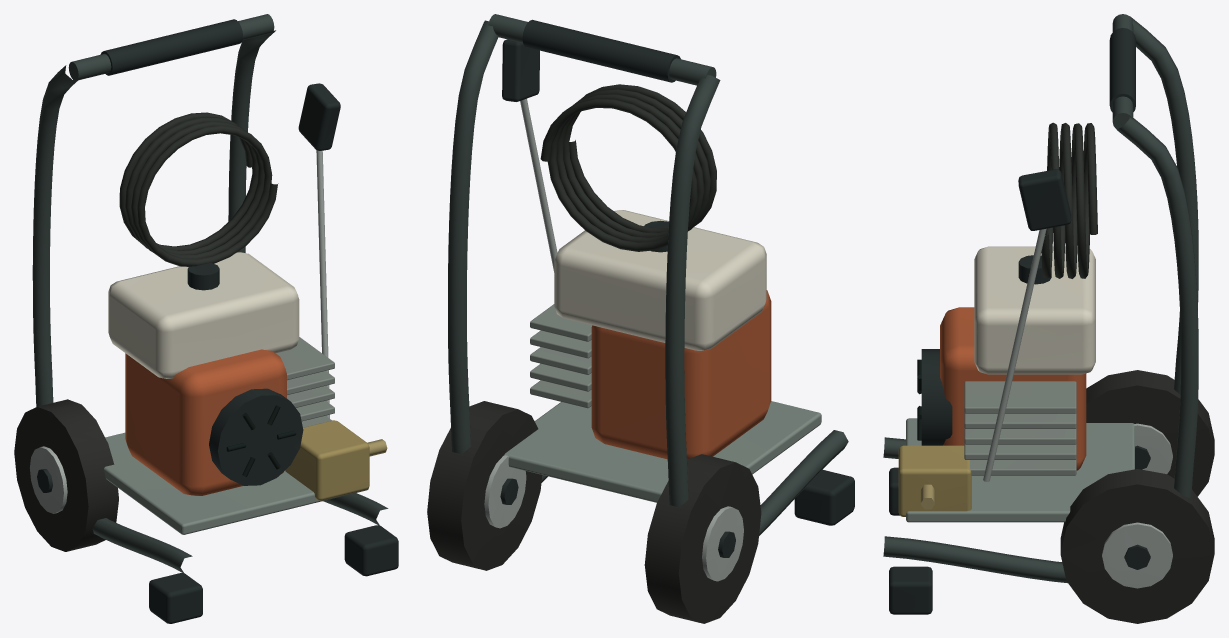
The model's file is pressure-washer-near.glb.
The picture shows the model from 3 angles, left to right: view 1: azimuth 30°, elevation 25°; view 2: azimuth 150°, elevation 25°; view 3: azimuth 270°, elevation 25°; orthographic projection. The views are drawn at different scales.
Parts seen in each view (by area): view 1: Fuel tank with rolled corners, Painted engine housing, All-terrain washer wheel rubber tread, Coiled high-pressure hose, Continuous washer roll cage, Engine mount plate, Motor recoil housing, Brass pressure pump, Continuous washer roll cage.001, Washer handle grip, Washer vibration foot.001, Washer vibration foot (+8 smaller); view 2: Painted engine housing, Fuel tank with rolled corners, All-terrain washer wheel rubber tread, Engine mount plate, All-terrain washer wheel rubber tread.001, Continuous washer roll cage, Coiled high-pressure hose, Continuous washer roll cage.001, Washer handle grip, Washer vibration foot, Lance trigger grip, All-terrain washer wheel recessed hub (+8 smaller); view 3: All-terrain washer wheel rubber tread.001, Fuel tank with rolled corners, Continuous washer roll cage.001, Engine mount plate, All-terrain washer wheel rubber tread, Coiled high-pressure hose, Painted engine housing, Continuous washer roll cage, Brass pressure pump, Cast motor cooling fin.004, All-terrain washer wheel recessed hub.003, Lance trigger grip (+13 smaller).
Part boxes in pixels (x1=…): Fuel tank with rolled corners: x1=108, y1=252, x2=299, y2=378; Painted engine housing: x1=125, y1=349, x2=286, y2=495; All-terrain washer wheel rubber tread: x1=14, y1=399, x2=118, y2=551; Coiled high-pressure hose: x1=119, y1=112, x2=278, y2=266; Continuous washer roll cage: x1=32, y1=65, x2=192, y2=573; Engine mount plate: x1=104, y1=432, x2=368, y2=534; Motor recoil housing: x1=209, y1=388, x2=303, y2=485; Brass pressure pump: x1=285, y1=420, x2=369, y2=500; Continuous washer roll cage.001: x1=228, y1=30, x2=388, y2=525; Washer handle grip: x1=100, y1=19, x2=242, y2=75; Washer vibration foot.001: x1=344, y1=525, x2=398, y2=576; Washer vibration foot: x1=149, y1=573, x2=202, y2=623; Painted engine housing: x1=591, y1=290, x2=771, y2=459; Fuel tank with rolled corners: x1=554, y1=210, x2=766, y2=350; All-terrain washer wheel rubber tread: x1=644, y1=454, x2=761, y2=623; Engine mount plate: x1=504, y1=401, x2=821, y2=502; All-terrain washer wheel rubber tread.001: x1=427, y1=401, x2=542, y2=570; Continuous washer roll cage: x1=665, y1=74, x2=848, y2=535; Coiled high-pressure hose: x1=540, y1=84, x2=716, y2=251; Continuous washer roll cage.001: x1=448, y1=20, x2=547, y2=482; Washer handle grip: x1=522, y1=19, x2=680, y2=82; Washer vibration foot: x1=794, y1=469, x2=854, y2=525; Lance trigger grip: x1=502, y1=39, x2=539, y2=101; All-terrain washer wheel recessed hub: x1=702, y1=506, x2=743, y2=581; All-terrain washer wheel rubber tread.001: x1=1060, y1=469, x2=1214, y2=623; Fuel tank with rolled corners: x1=974, y1=246, x2=1095, y2=374; Continuous washer roll cage.001: x1=883, y1=117, x2=1198, y2=583; Engine mount plate: x1=906, y1=418, x2=1134, y2=522; All-terrain washer wheel rubber tread: x1=1086, y1=370, x2=1214, y2=496; Coiled high-pressure hose: x1=1041, y1=122, x2=1097, y2=278; Painted engine housing: x1=940, y1=307, x2=1086, y2=470; Continuous washer roll cage: x1=883, y1=16, x2=1198, y2=458; Brass pressure pump: x1=898, y1=445, x2=971, y2=516; Cast motor cooling fin.004: x1=964, y1=381, x2=1076, y2=413; All-terrain washer wheel recessed hub.003: x1=1102, y1=522, x2=1172, y2=588; Lance trigger grip: x1=1018, y1=169, x2=1071, y2=230.
Size of the model in its own units: 0.595 by 1.14 by 0.6793.
